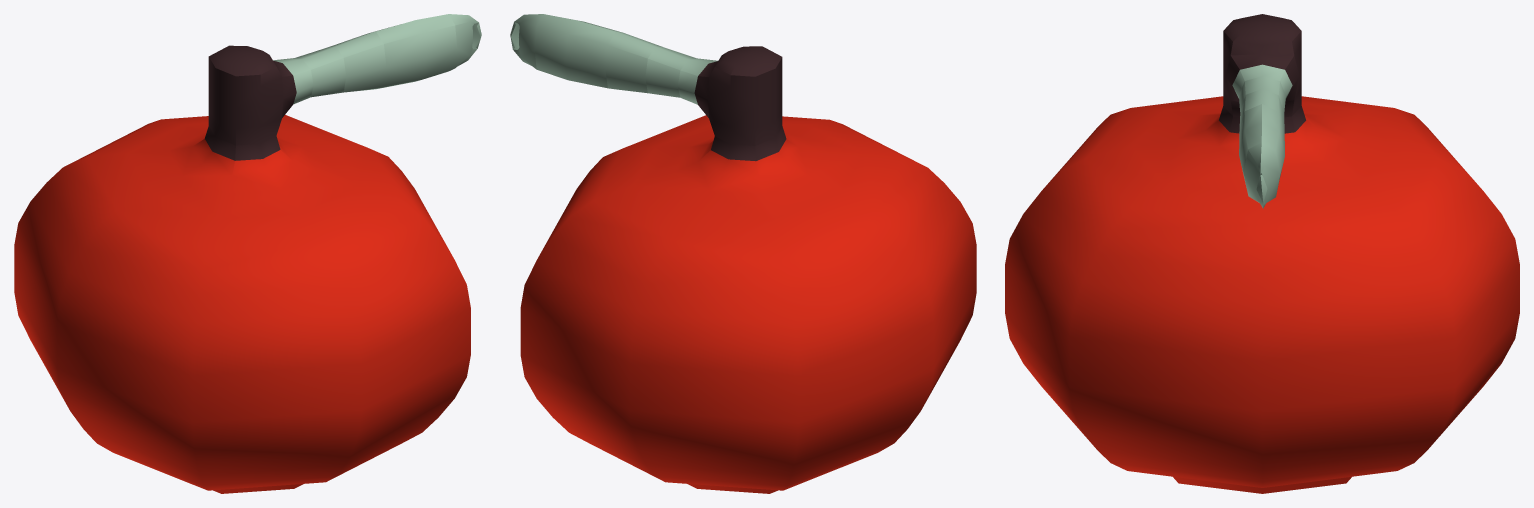
3 views of the same model, side by side, from view 1: azimuth 30°, elevation 25°; view 2: azimuth 150°, elevation 25°; view 3: azimuth 270°, elevation 25° (orthographic). The views are drawn at different scales.
Visible parts, largest first — view 1: Cube.001; view 2: Cube.001; view 3: Cube.001.
Boxes of the visible parts, x1,y1,x2,y2 form: Cube.001: [14, 14, 481, 493]; Cube.001: [510, 14, 976, 493]; Cube.001: [1005, 14, 1519, 493].
Size of the model in its own units: 229 by 211 by 223.
